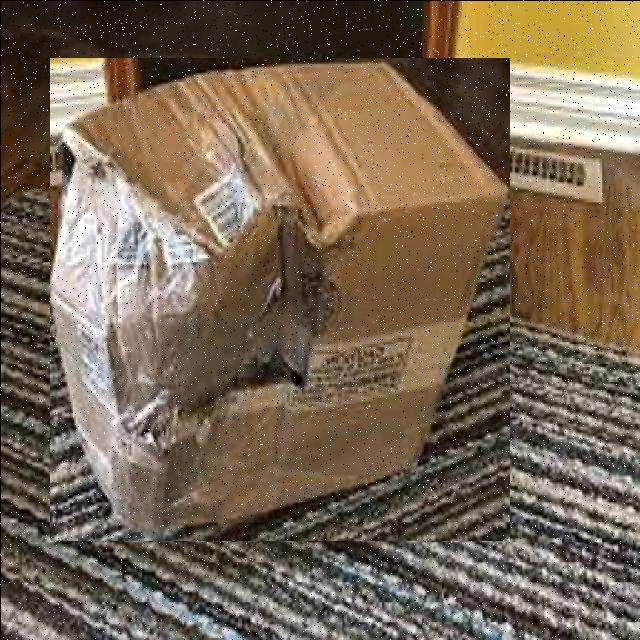defect: (49, 57, 509, 540)
